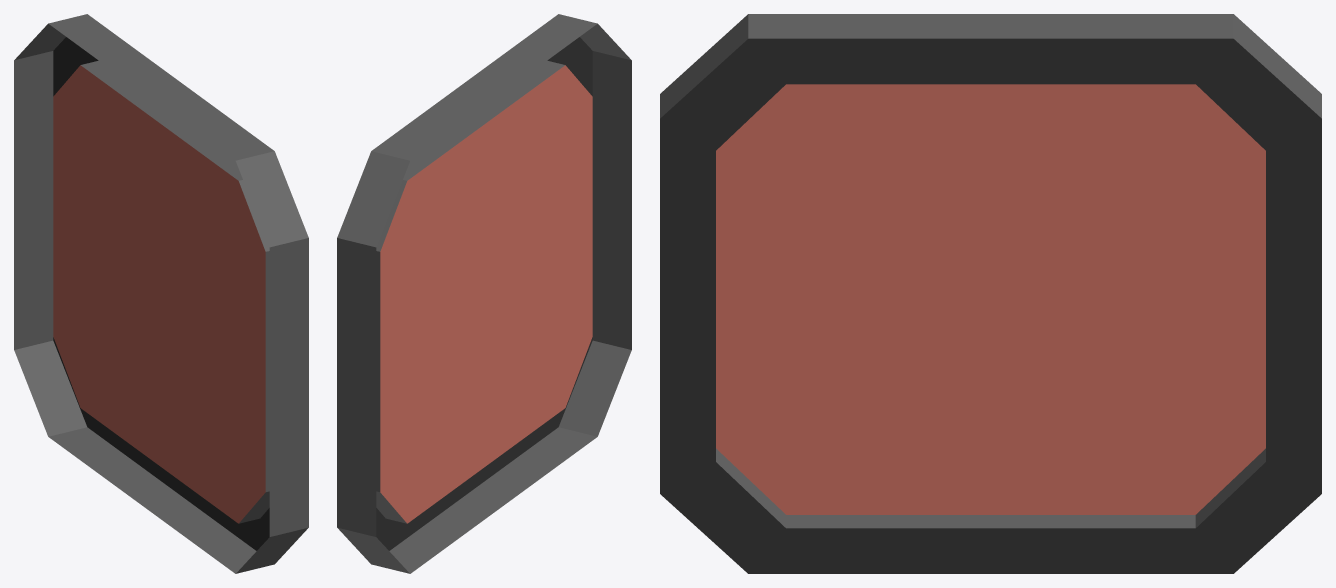
File: Building_Window_Small.fbx
3 renders of one model, left to right at view 1: azimuth 30°, elevation 25°; view 2: azimuth 150°, elevation 25°; view 3: azimuth 270°, elevation 25°, orthographic. The views are drawn at different scales.
Visible parts, largest first — view 1: Building_Window_Small; view 2: Building_Window_Small; view 3: Building_Window_Small.
Boxes of the visible parts, bbox=[...] form: Building_Window_Small: bbox=[14, 14, 308, 573]; Building_Window_Small: bbox=[337, 14, 631, 573]; Building_Window_Small: bbox=[660, 14, 1321, 573].
Size of the model in its own units: 9.92 by 100 by 112.
